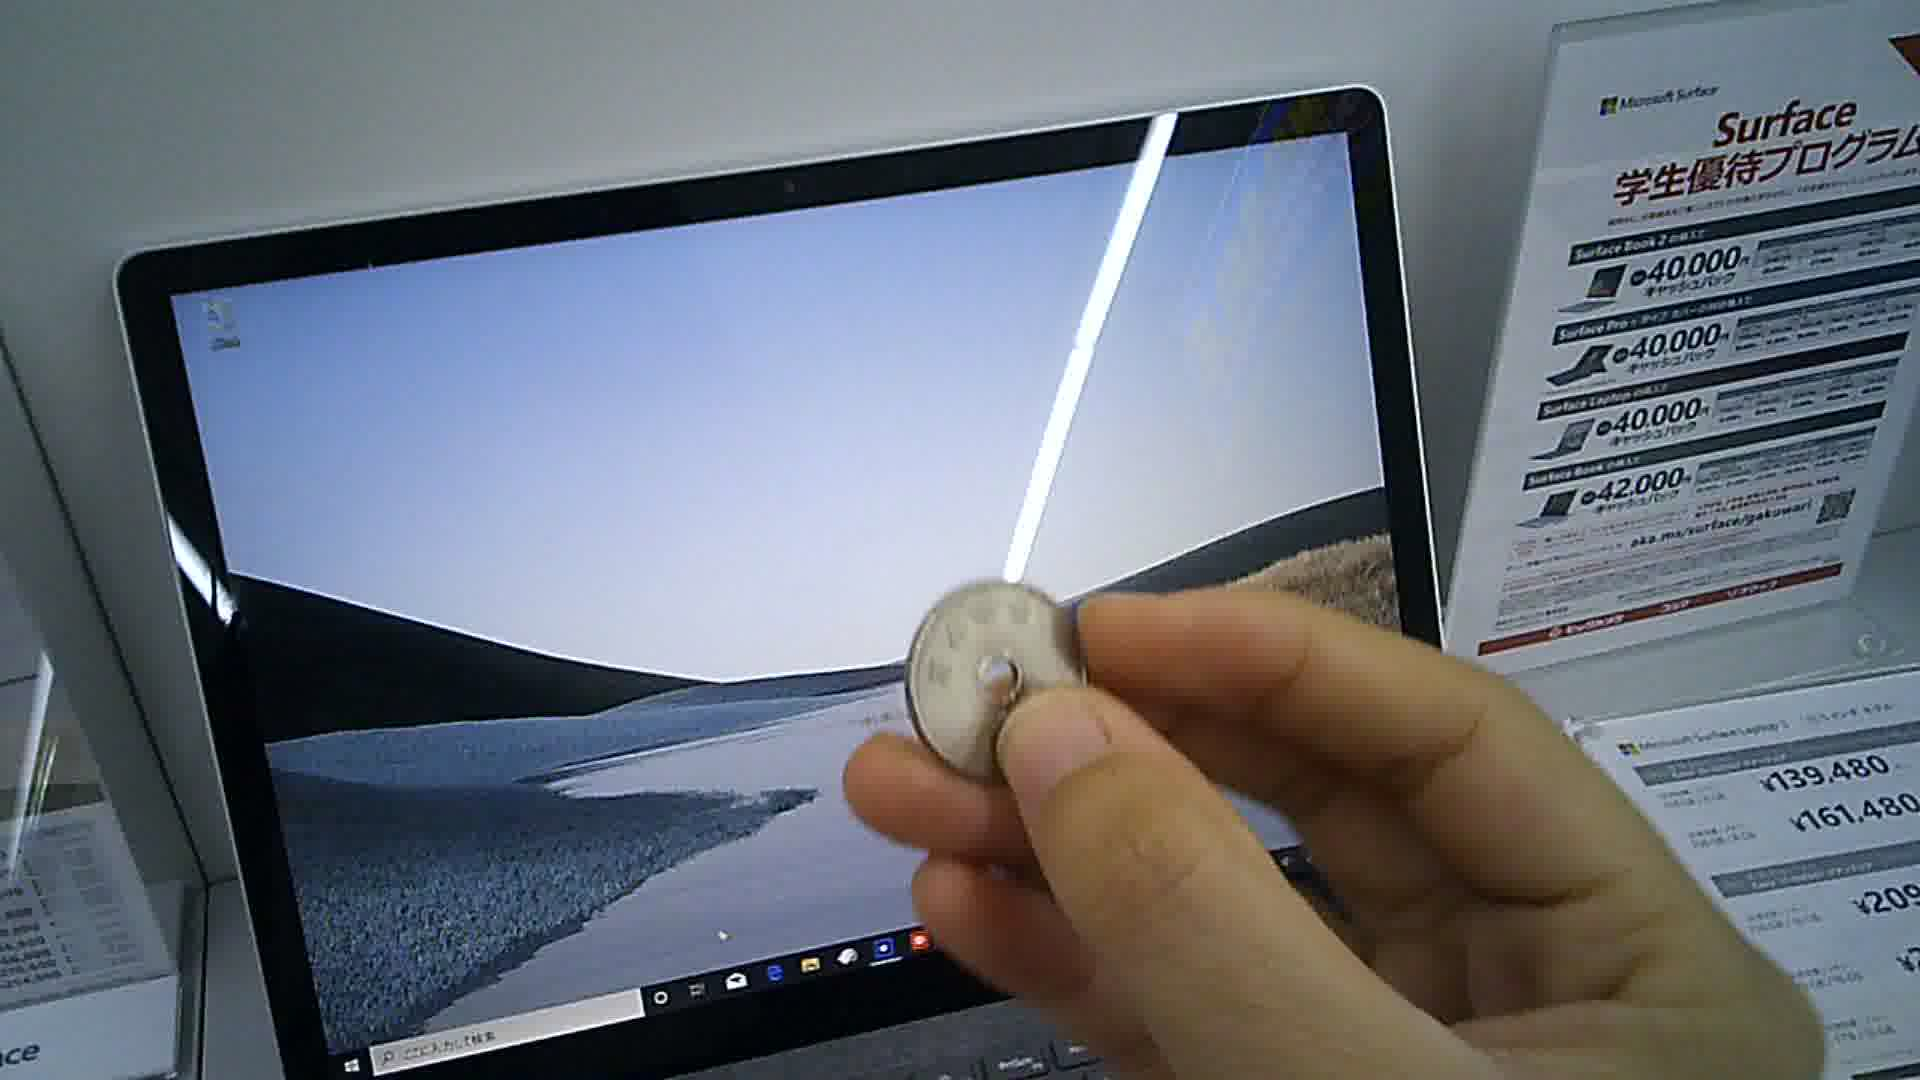50 Yen: (894, 571, 1102, 802)
